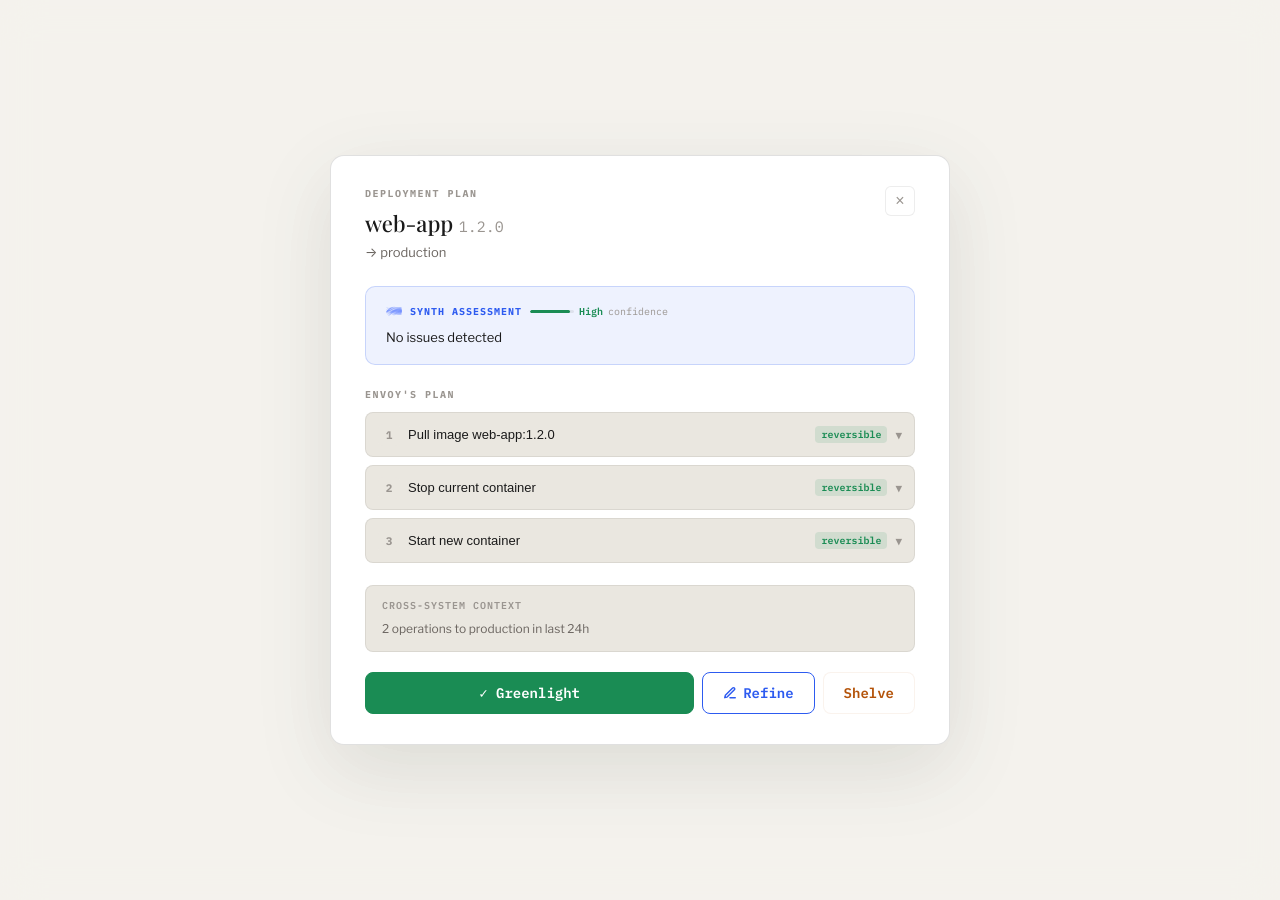
Test case: PlanReviewPanel › shelve journey › shelve API failure shows error message without navigating
This screenshot has width=1280, height=900.
Click the button "Shelve" at (869, 693), box [823,672,915,714]
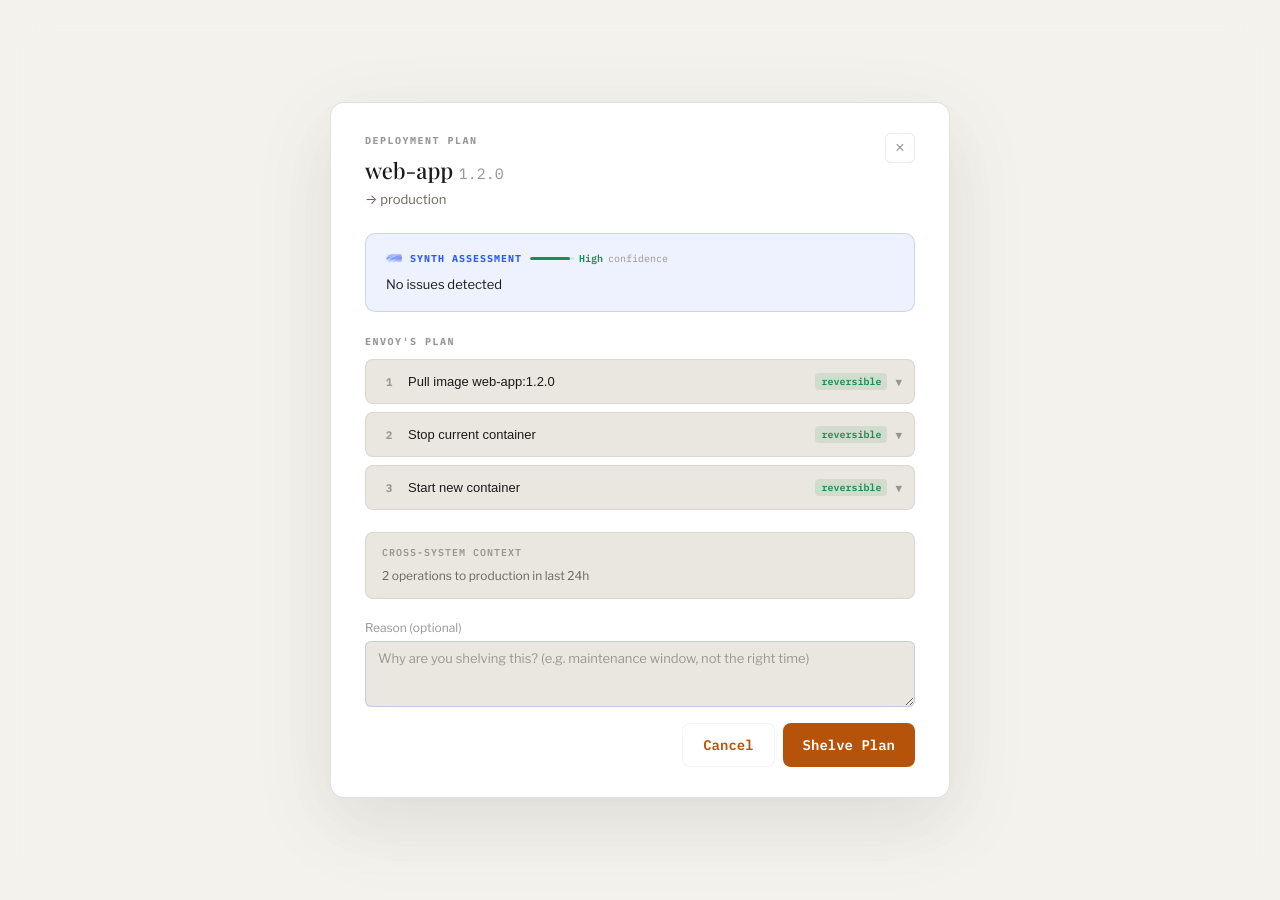
Type "Bad timing" into the text box with placeholder "Why are you shelving this? (e.g. maintenance window, not the right time)" at (640, 674), box [365,641,915,707]
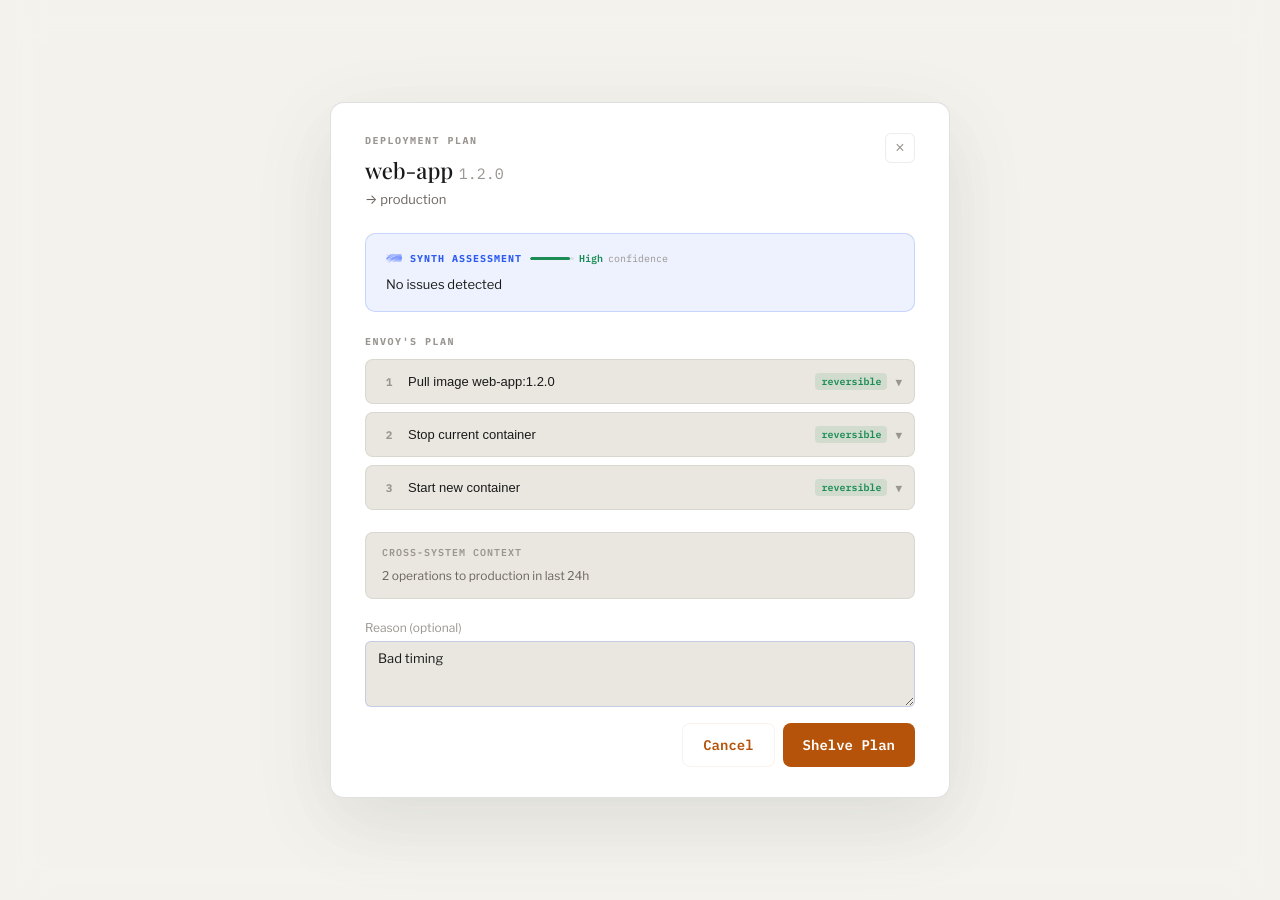
Click the button "Shelve Plan" at (849, 745), box [783,723,915,767]
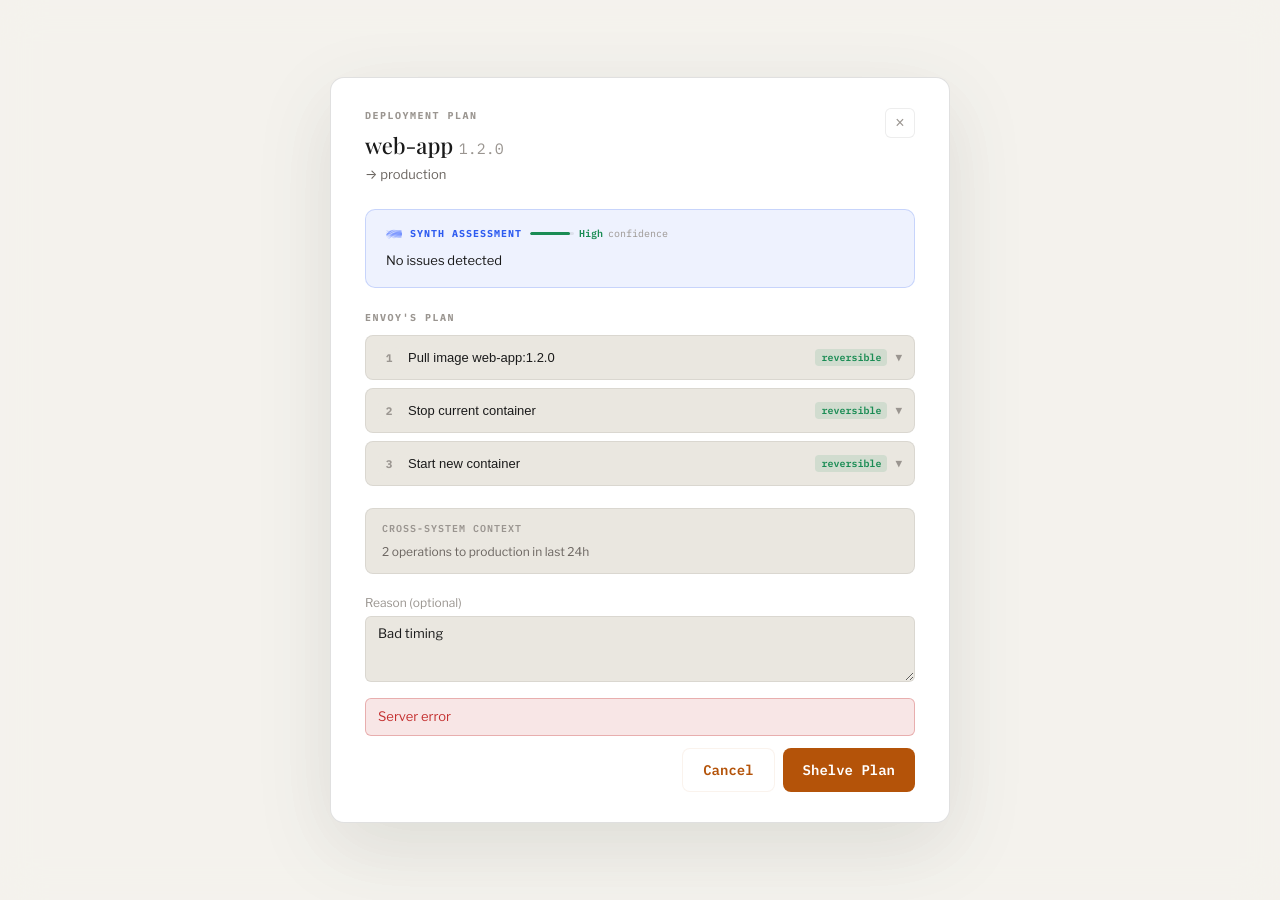
Result: the text "Server error" is shown at [365,698,915,736]
